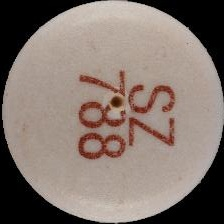68084-562: (0, 0, 224, 224)
